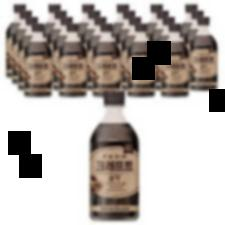georgiacraft_black: (80, 93, 147, 222), (56, 23, 88, 99), (160, 25, 191, 98), (191, 15, 220, 92), (26, 24, 52, 100), (128, 22, 154, 97)
